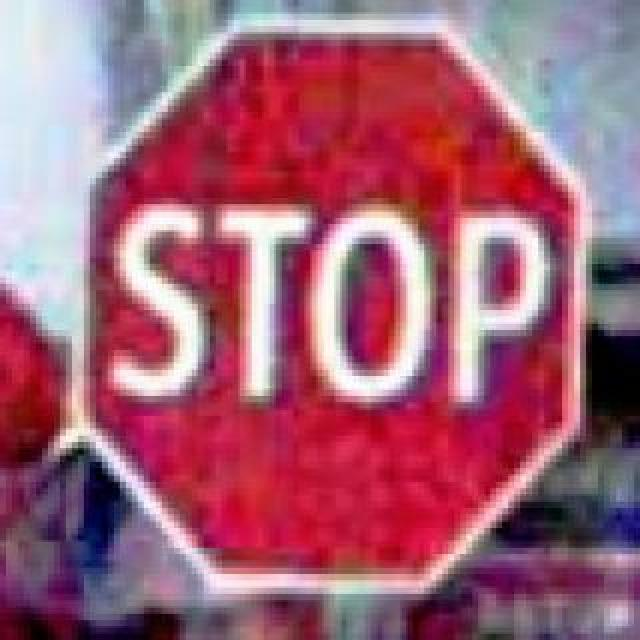stop: (66, 8, 586, 588)
